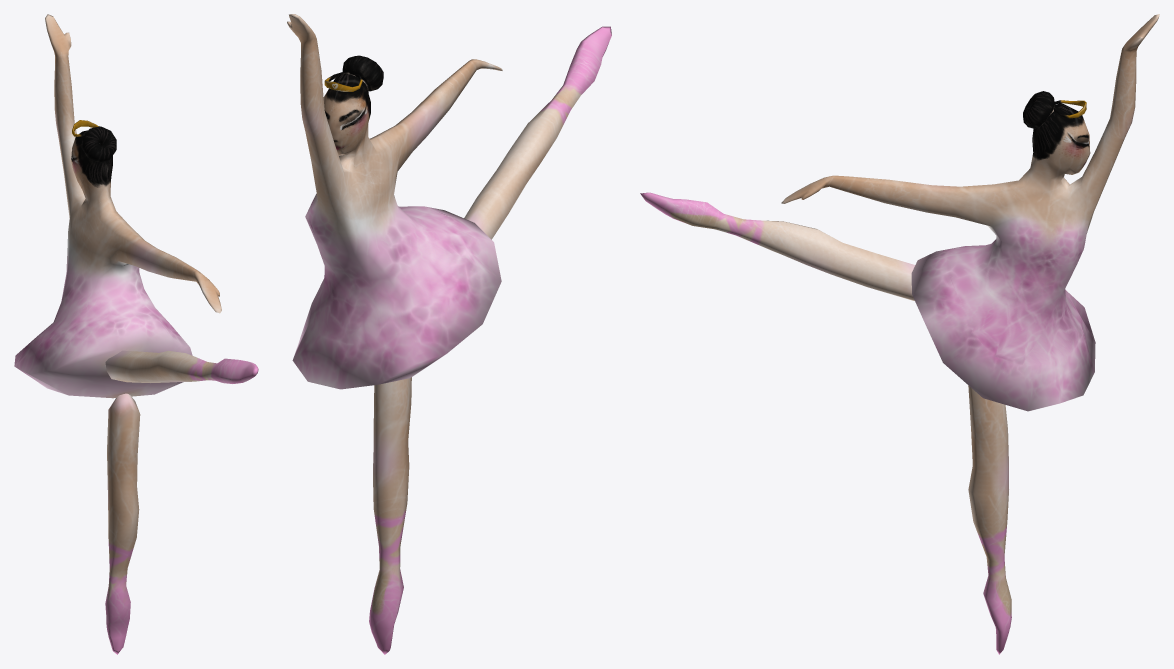
Rendered from ballerina.fbx.
The picture shows the model from 3 angles, left to right: view 1: azimuth 30°, elevation 25°; view 2: azimuth 150°, elevation 25°; view 3: azimuth 270°, elevation 25°; orthographic projection. The views are drawn at different scales.
Visible parts, largest first — view 1: ballerina; view 2: ballerina; view 3: ballerina.
Part boxes in pixels (x1,y1,x2,y2): ballerina: (14, 14, 258, 654); ballerina: (287, 14, 611, 654); ballerina: (640, 14, 1159, 654).
Bounding box in the file's own units: 65.95 × 251 × 184.
1 material, 1 textured.
